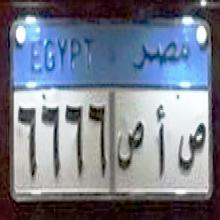6: (17, 101, 38, 178), (40, 103, 62, 175), (88, 102, 106, 178), (66, 103, 84, 176)
alif: (157, 103, 167, 178)
saad: (114, 117, 146, 178), (175, 117, 208, 176)
